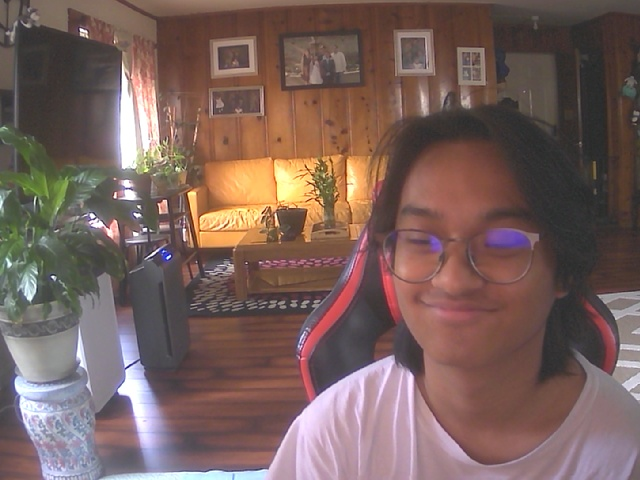happy: (365, 115, 586, 370)
